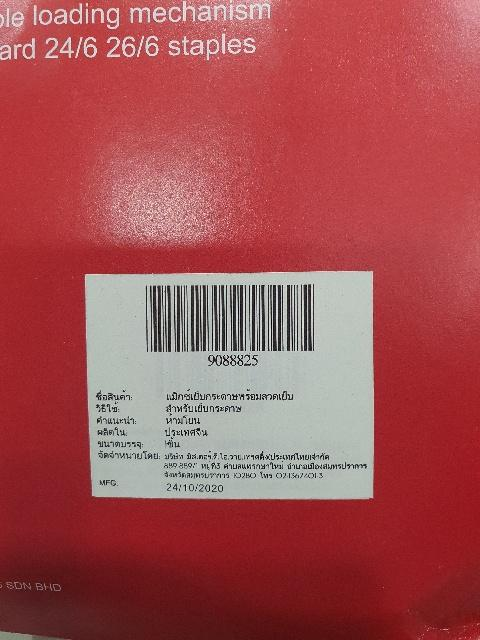Barcode: (137, 283, 328, 373)
